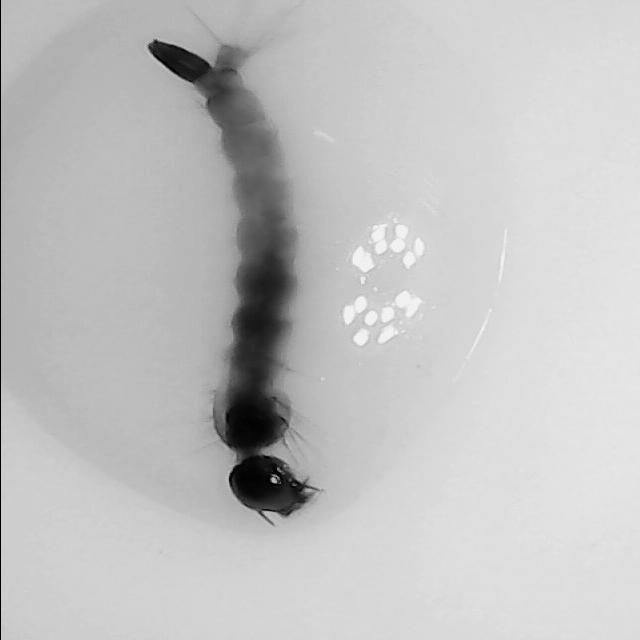larvas: (150, 31, 315, 516)
